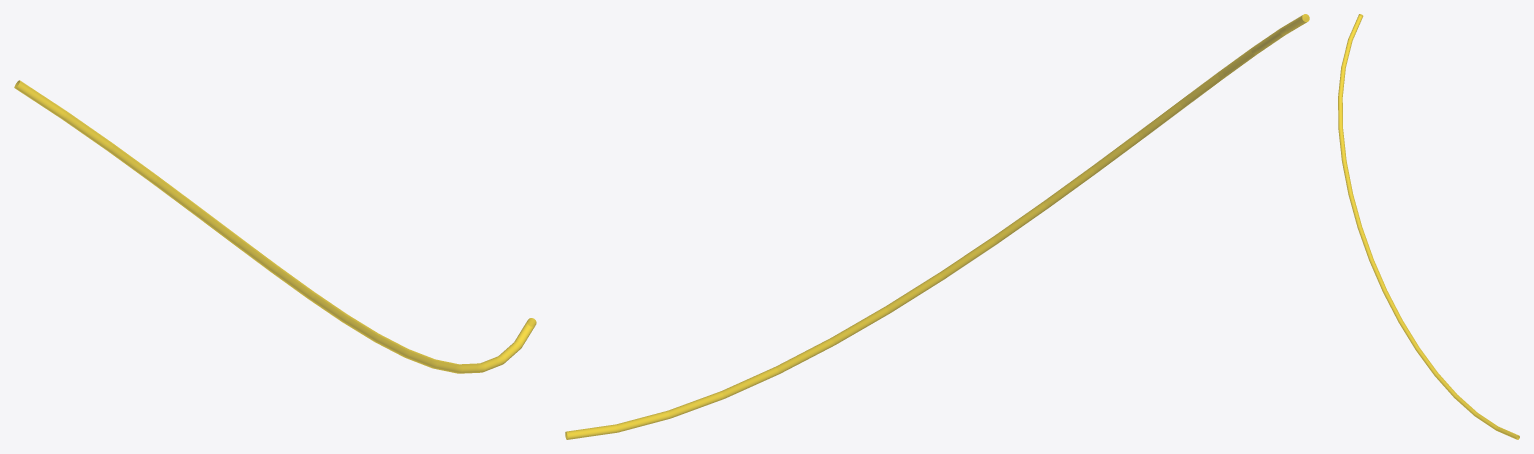
Rendered from Event_100608114_track_9.fbx.
3 views of the same model, side by side, from view 1: azimuth 30°, elevation 25°; view 2: azimuth 150°, elevation 25°; view 3: azimuth 270°, elevation 25° (orthographic). The views are drawn at different scales.
Visible parts, largest first — view 1: Model; view 2: Model; view 3: Model.
Boxes of the visible parts, left/top/right/bottom form: Model: left=14, top=80, right=536, bottom=373; Model: left=565, top=14, right=1309, bottom=439; Model: left=1338, top=14, right=1519, bottom=439.
Size of the model in its own units: 3.29 by 2.43 by 1.53.
